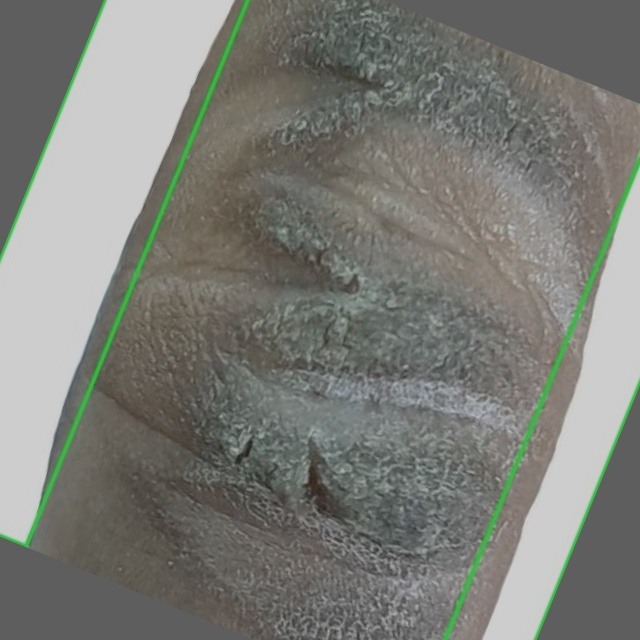Contact Dermatitis: (0, 0, 247, 546), (445, 161, 639, 639)
